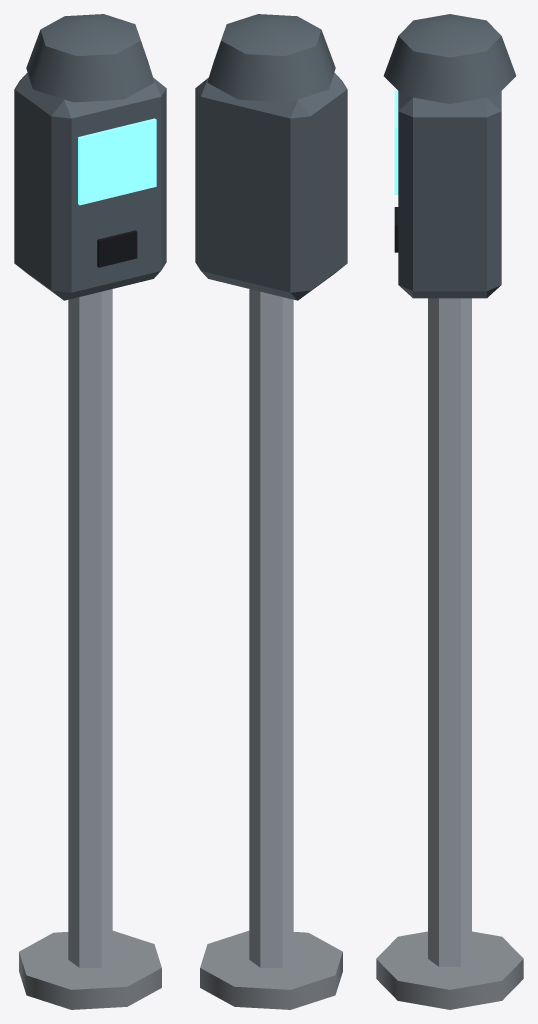
Rendered from parking_meter.glb.
3 views of the same model, side by side, from view 1: azimuth 30°, elevation 25°; view 2: azimuth 150°, elevation 25°; view 3: azimuth 270°, elevation 25° (orthographic).
Visible parts, largest first — view 1: parking_meter; view 2: parking_meter; view 3: parking_meter.
Boxes of the visible parts, x1=… form: parking_meter: x1=14, y1=14, x2=166, y2=1009; parking_meter: x1=195, y1=14, x2=347, y2=1009; parking_meter: x1=376, y1=14, x2=523, y2=1009.
Bounding box in the file's own units: 0.2 × 1.43 × 0.2.
